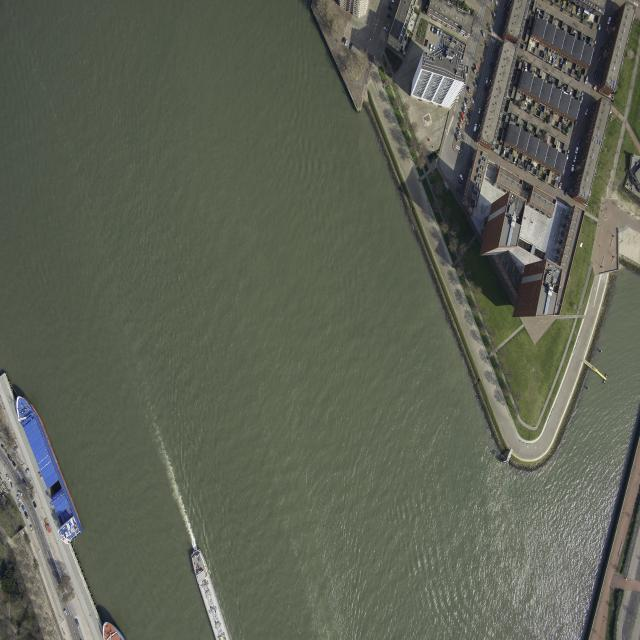ship: (12, 382, 84, 553), (194, 563, 197, 571), (198, 556, 200, 563)
small-vehicle: (7, 454, 13, 462), (492, 10, 497, 19), (593, 70, 598, 79), (22, 479, 27, 487), (29, 493, 34, 501), (16, 494, 21, 502), (6, 474, 11, 482), (24, 512, 29, 520), (75, 619, 80, 627), (484, 40, 489, 48), (584, 75, 588, 85), (574, 117, 578, 127), (13, 446, 19, 452), (425, 39, 429, 48), (461, 112, 465, 121), (473, 123, 477, 132), (540, 50, 544, 59), (530, 163, 534, 172), (602, 6, 606, 15), (571, 164, 575, 173), (33, 501, 37, 509), (30, 525, 34, 533), (471, 97, 475, 105), (433, 27, 437, 35), (439, 30, 443, 38), (503, 3, 507, 11), (481, 30, 485, 38), (468, 108, 472, 116), (524, 64, 528, 72), (489, 61, 493, 69), (483, 85, 487, 93), (475, 77, 479, 85), (465, 97, 469, 105), (607, 17, 611, 25), (462, 107, 466, 115), (465, 118, 469, 126), (457, 128, 461, 136), (523, 102, 527, 110), (524, 160, 528, 168), (513, 157, 517, 165), (559, 84, 563, 92), (564, 188, 568, 196), (590, 52, 594, 60), (577, 137, 581, 145), (575, 146, 579, 154), (573, 155, 577, 163), (25, 468, 30, 474), (363, 49, 367, 56), (26, 485, 30, 492), (22, 505, 26, 512), (12, 460, 16, 467), (342, 37, 346, 44), (344, 39, 348, 46), (349, 43, 353, 50), (467, 86, 471, 93), (429, 44, 433, 51), (432, 45, 436, 52), (474, 63, 478, 70), (473, 82, 477, 89), (460, 117, 464, 124), (456, 187, 460, 194), (598, 55, 602, 62), (569, 89, 573, 96), (582, 37, 586, 44), (383, 26, 388, 31), (388, 6, 393, 11), (18, 491, 23, 496), (386, 14, 391, 19), (5, 449, 9, 455), (16, 468, 20, 474), (431, 25, 434, 33), (436, 29, 440, 35), (480, 57, 484, 63), (1, 444, 5, 450), (458, 123, 462, 129), (536, 11, 539, 19), (456, 134, 459, 142), (459, 174, 463, 180), (459, 179, 463, 185), (503, 147, 506, 155), (600, 47, 603, 55), (549, 56, 552, 64), (580, 96, 583, 104), (585, 108, 588, 116), (578, 104, 581, 112), (551, 79, 554, 87), (463, 103, 467, 109), (456, 96, 459, 103), (64, 609, 67, 616), (478, 108, 481, 115), (502, 11, 505, 18), (473, 67, 476, 74), (562, 169, 565, 176), (598, 24, 601, 31), (467, 113, 470, 120), (477, 72, 480, 79), (545, 16, 548, 23), (606, 25, 609, 32), (560, 58, 563, 65), (561, 122, 564, 129), (573, 32, 576, 39), (569, 173, 572, 180), (559, 182, 562, 189), (566, 154, 569, 161), (493, 47, 496, 53), (485, 78, 488, 84), (462, 134, 465, 140)
